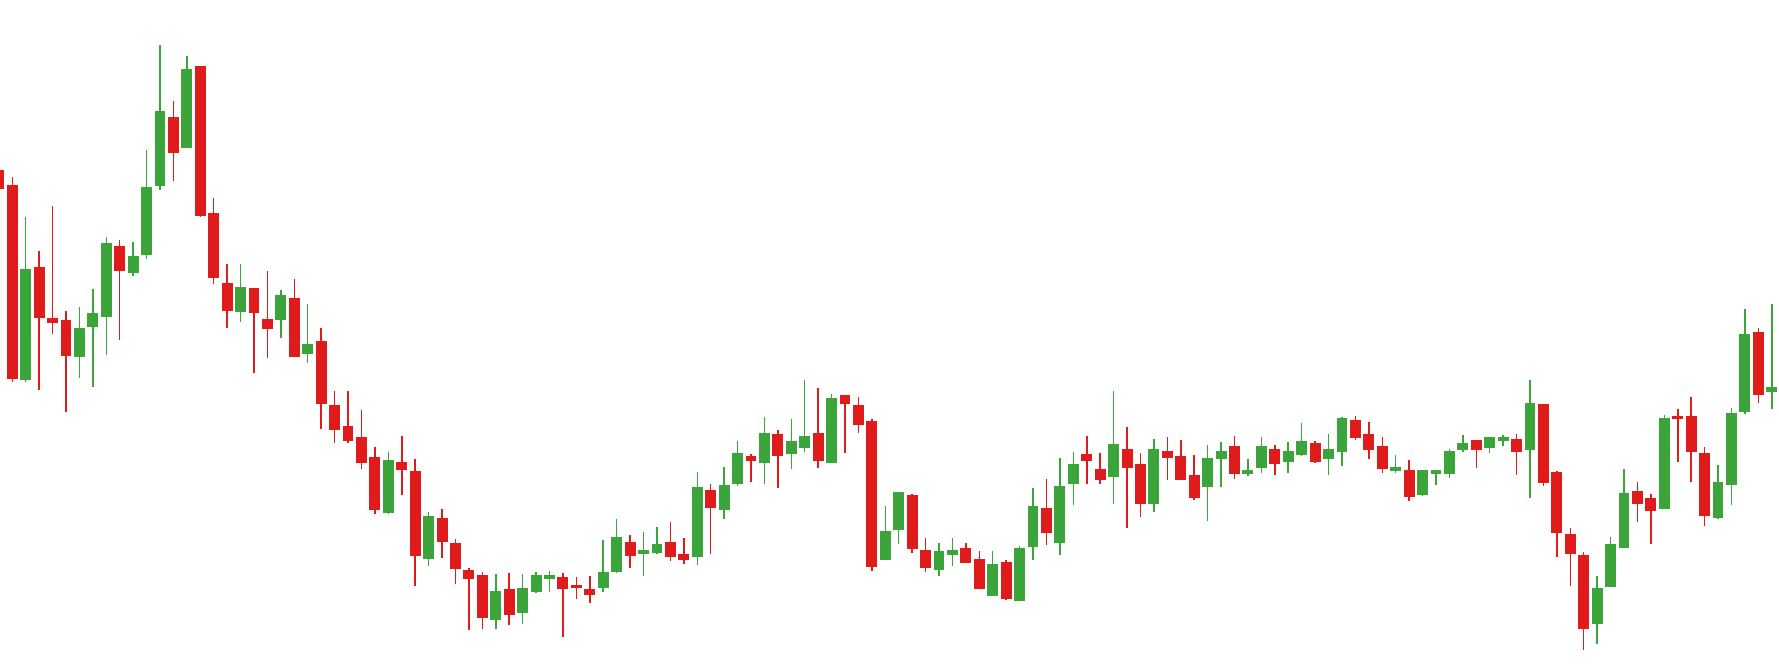buy: (462, 557, 570, 643)
